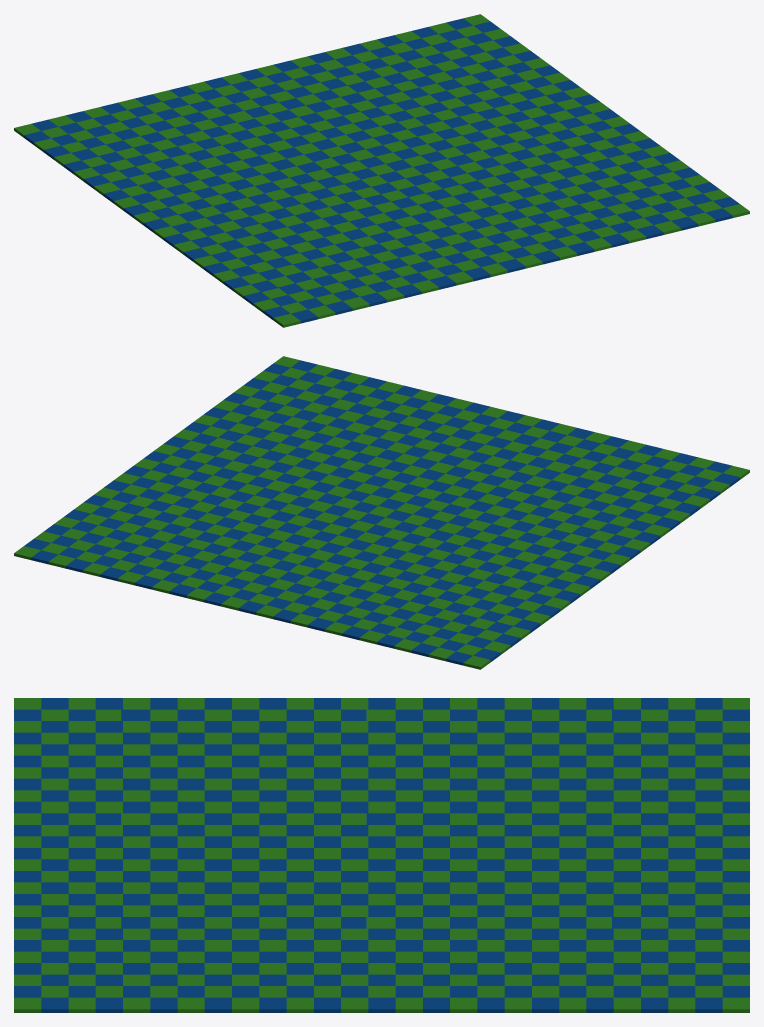
File: Grid Terrain.fbx
The picture shows the model from 3 angles, top to bottom: view 1: azimuth 30°, elevation 25°; view 2: azimuth 150°, elevation 25°; view 3: azimuth 270°, elevation 25°; orthographic projection. The views are drawn at different scales.
Visible parts, largest first — view 1: Grid Terrain.003, Grid Terrain (inverted).001, Grid Terrain.001, Grid Terrain (inverted).002, Grid Terrain.004, Grid Terrain, Grid Terrain (inverted), Grid Terrain.002, Grid Terrain (inverted).003; view 2: Grid Terrain.004, Grid Terrain (inverted).003, Grid Terrain.002, Grid Terrain (inverted).002, Grid Terrain.003, Grid Terrain, Grid Terrain (inverted), Grid Terrain.001, Grid Terrain (inverted).001; view 3: Grid Terrain (inverted), Grid Terrain.001, Grid Terrain.002, Grid Terrain, Grid Terrain (inverted).001, Grid Terrain (inverted).003, Grid Terrain (inverted).002, Grid Terrain.003, Grid Terrain.004.
Part boxes in pixels (x1,y1,x2,y2): Grid Terrain.003: (193,221,438,327); Grid Terrain (inverted).001: (349,183,594,289); Grid Terrain.001: (505,145,749,251); Grid Terrain (inverted).002: (103,156,348,261); Grid Terrain.004: (14,90,258,195); Grid Terrain: (259,118,504,221); Grid Terrain (inverted): (415,80,659,183); Grid Terrain.002: (325,14,569,117); Grid Terrain (inverted).003: (170,52,414,155); Grid Terrain.004: (325,563,570,669); Grid Terrain (inverted).003: (169,525,414,631); Grid Terrain.002: (14,487,258,593); Grid Terrain (inverted).002: (415,498,660,603); Grid Terrain.003: (505,432,749,537); Grid Terrain: (259,460,504,563); Grid Terrain (inverted): (104,422,348,525); Grid Terrain.001: (194,356,438,459); Grid Terrain (inverted).001: (349,394,593,497); Grid Terrain (inverted): (259,905,504,1012); Grid Terrain.001: (14,905,259,1012); Grid Terrain.002: (504,905,749,1012); Grid Terrain: (259,801,504,905); Grid Terrain (inverted).001: (14,801,259,905); Grid Terrain (inverted).003: (504,801,749,905); Grid Terrain (inverted).002: (259,698,504,801); Grid Terrain.003: (14,698,259,801); Grid Terrain.004: (504,698,749,801).
Size of the model in its own units: 27 by 0.15 by 27.
